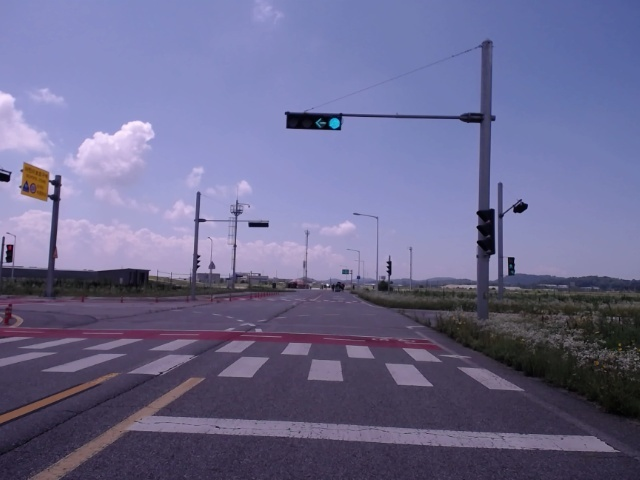all_green_4: (285, 111, 344, 130)
